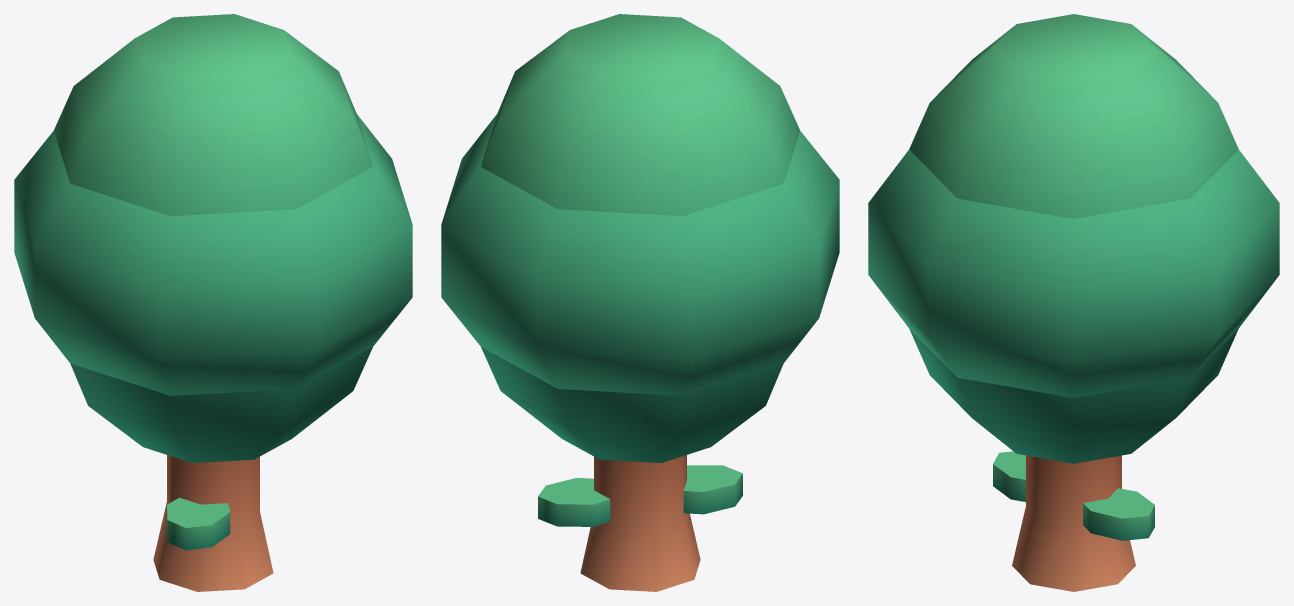
The model's file is tree.glb.
3 renders of one model, left to right at view 1: azimuth 30°, elevation 25°; view 2: azimuth 150°, elevation 25°; view 3: azimuth 270°, elevation 25°, orthographic.
Visible parts, largest first — view 1: tree; view 2: tree; view 3: tree.
Boxes of the visible parts, x1,y1,x2,y2 form: tree: (14,14,412,591); tree: (441,14,839,591); tree: (868,14,1279,591).
Bounding box in the file's own units: 0.8551 × 1.19 × 0.8551.
1 material, 1 textured.
